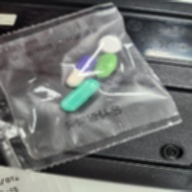러키펜정: (98, 35, 122, 54)
씨엠지세파클러캡슐: (66, 55, 96, 88)
에르도캡슐: (60, 79, 100, 112)
휴티렌정: (95, 53, 118, 78)
